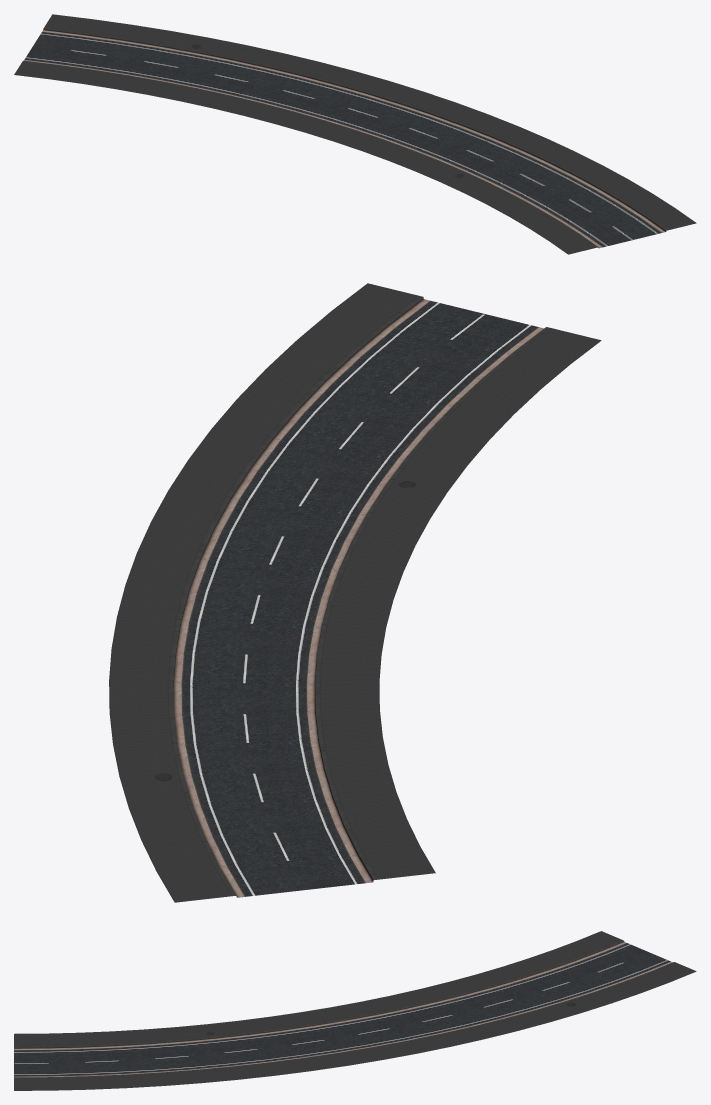
Rendered from or_city_road_45left.fbx.
3 views of the same model, one above another, from view 1: azimuth 30°, elevation 25°; view 2: azimuth 150°, elevation 25°; view 3: azimuth 270°, elevation 25° (orthographic). The views are drawn at different scales.
Visible parts, largest first — view 1: obj0; view 2: obj0; view 3: obj0.
Boxes of the visible parts, <box> form: obj0: <box>14,14,696,254</box>; obj0: <box>109,283,601,902</box>; obj0: <box>14,931,696,1090</box>.
Size of the model in its own units: 81.77 by 0.254 by 148.
